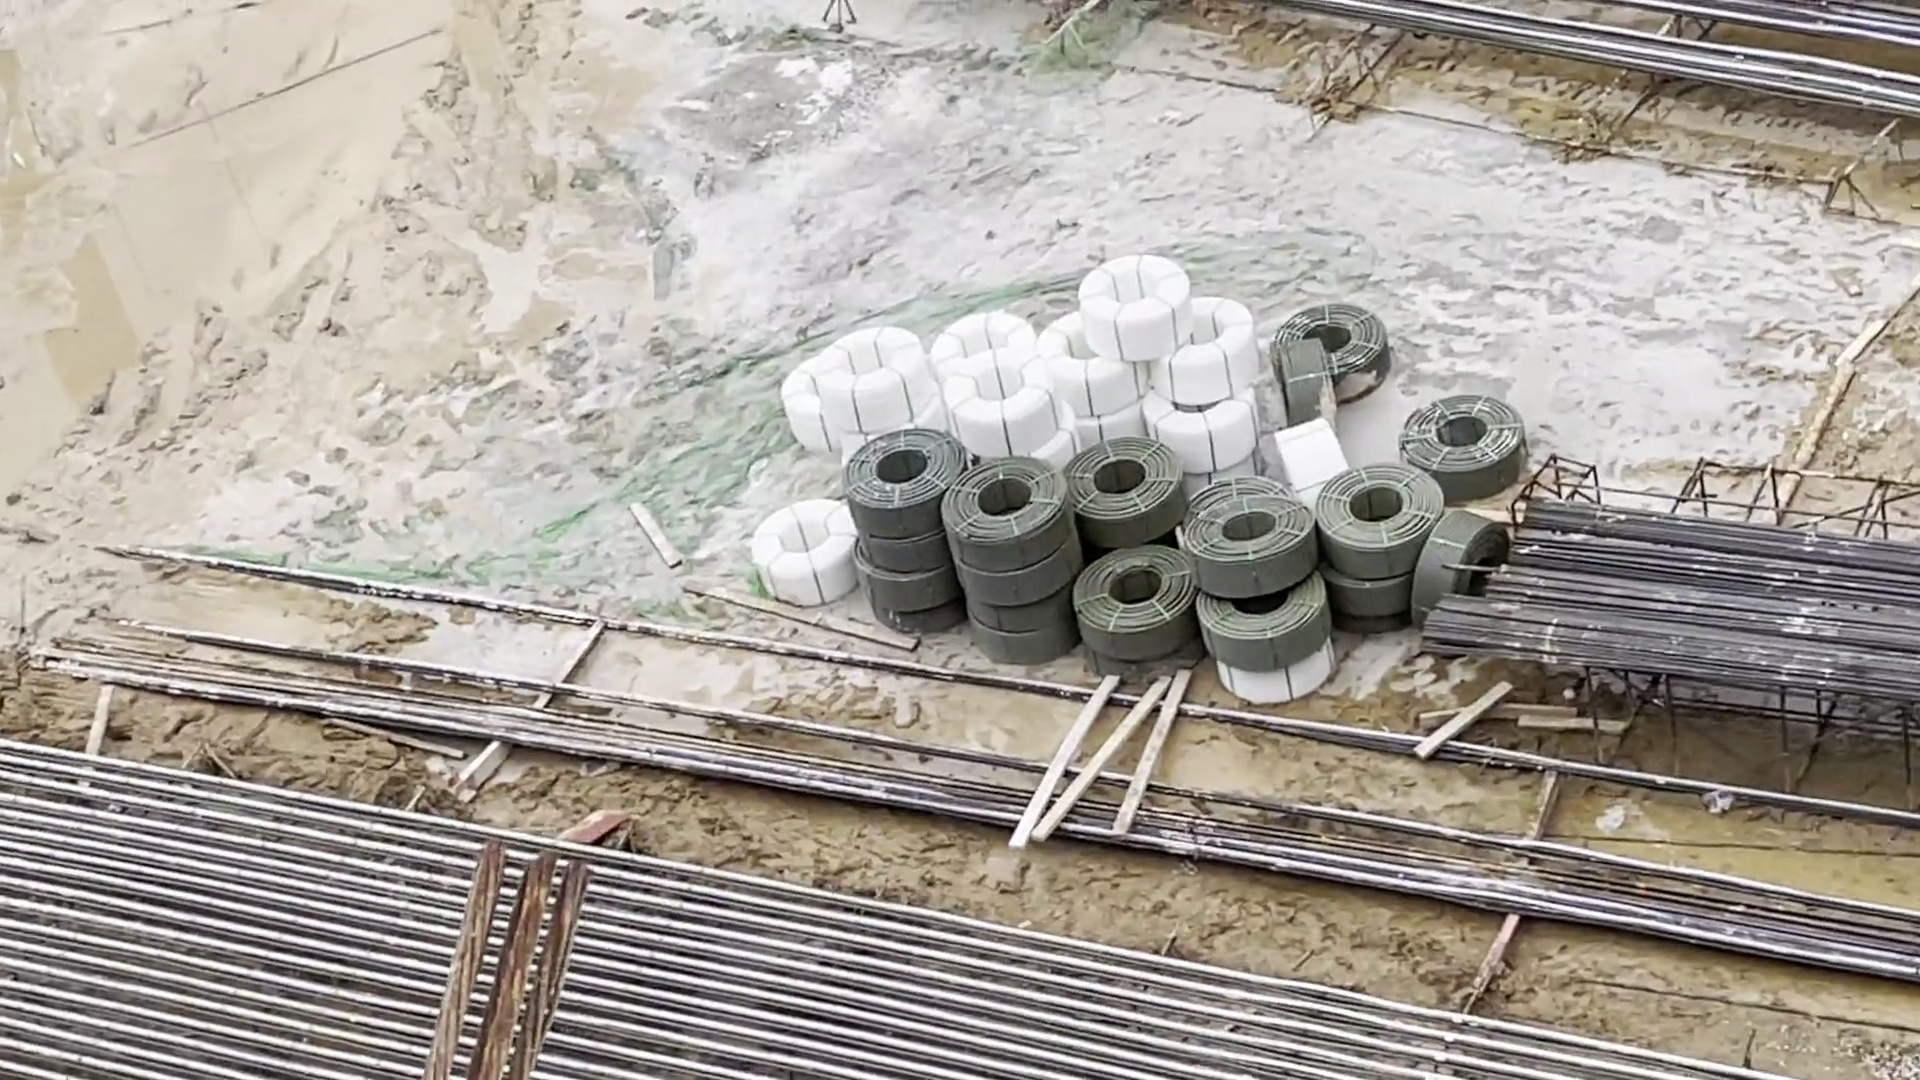rebar: (1, 733, 1275, 1080), (1422, 498, 1920, 687)
